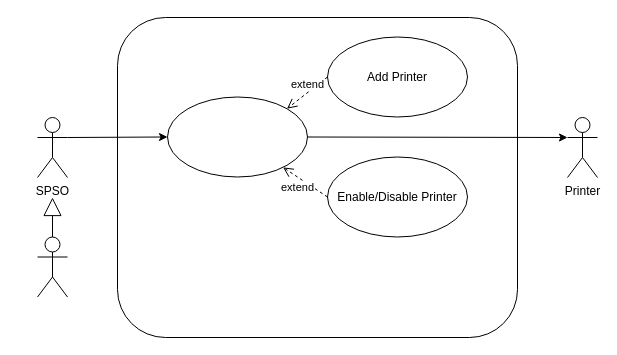
This 617x355 diagram has some shape labels left out. The shapes that lost their labels are listed below. From the top down, each one's box as (x1, y1, x2, y2) in pixels, then its label:
(166, 96, 308, 177): Manage Printers
(36, 236, 68, 297): Administrator
